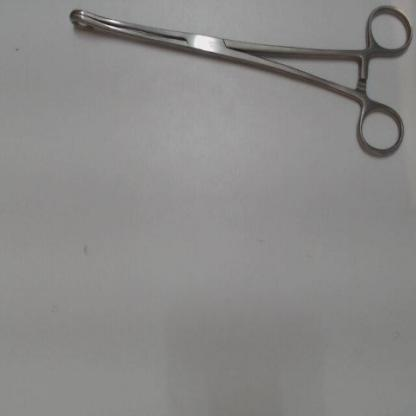Sponge Forceps: (59, 0, 415, 168)
